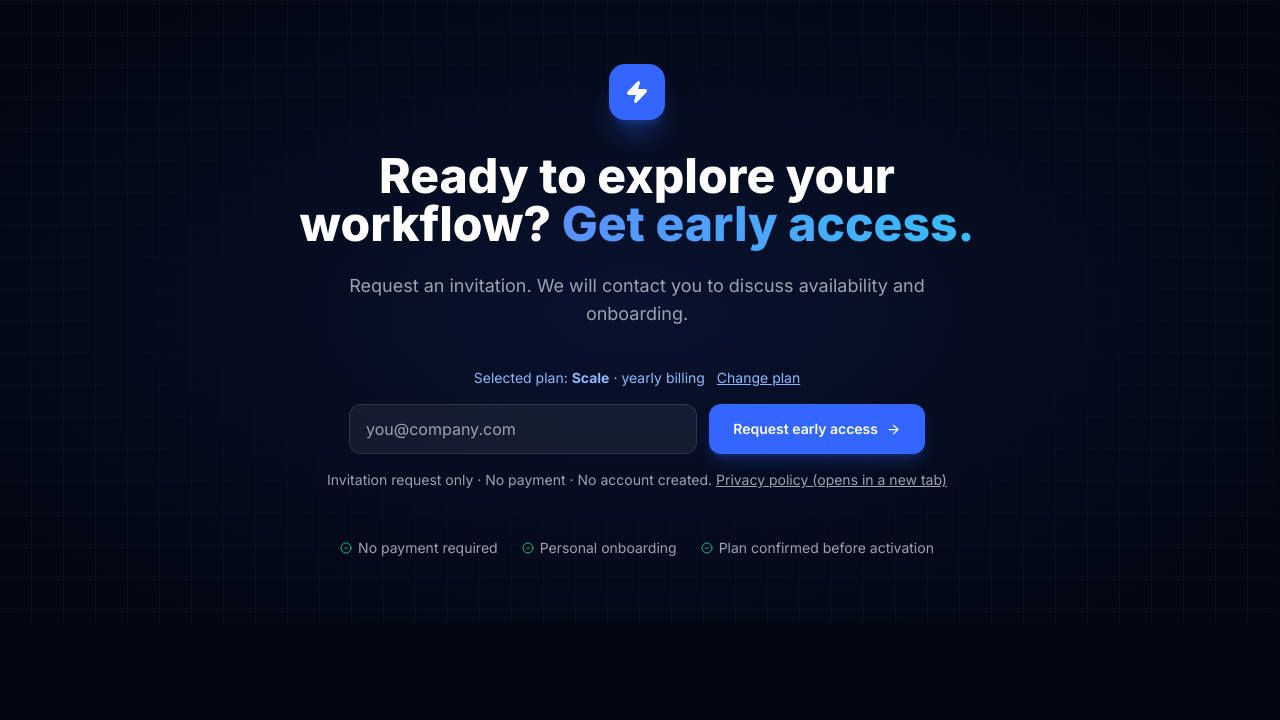
Scenario: includes the selected plan and billing in the early-access request
Expected: the text "scale" is shown, [572, 369, 609, 386]
In the field named "email address": (523, 429) [349, 404, 697, 454], type "team@example.com"
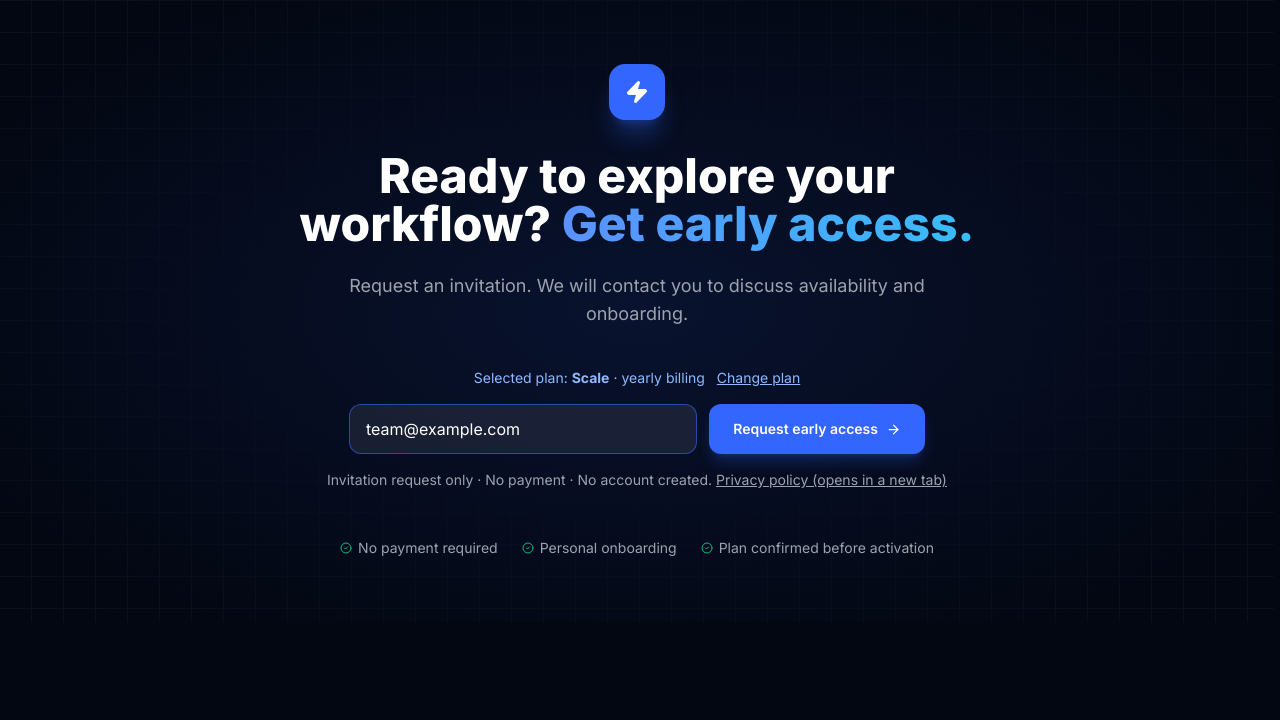
Click the button "Request early access": (817, 429) [709, 404, 925, 454]
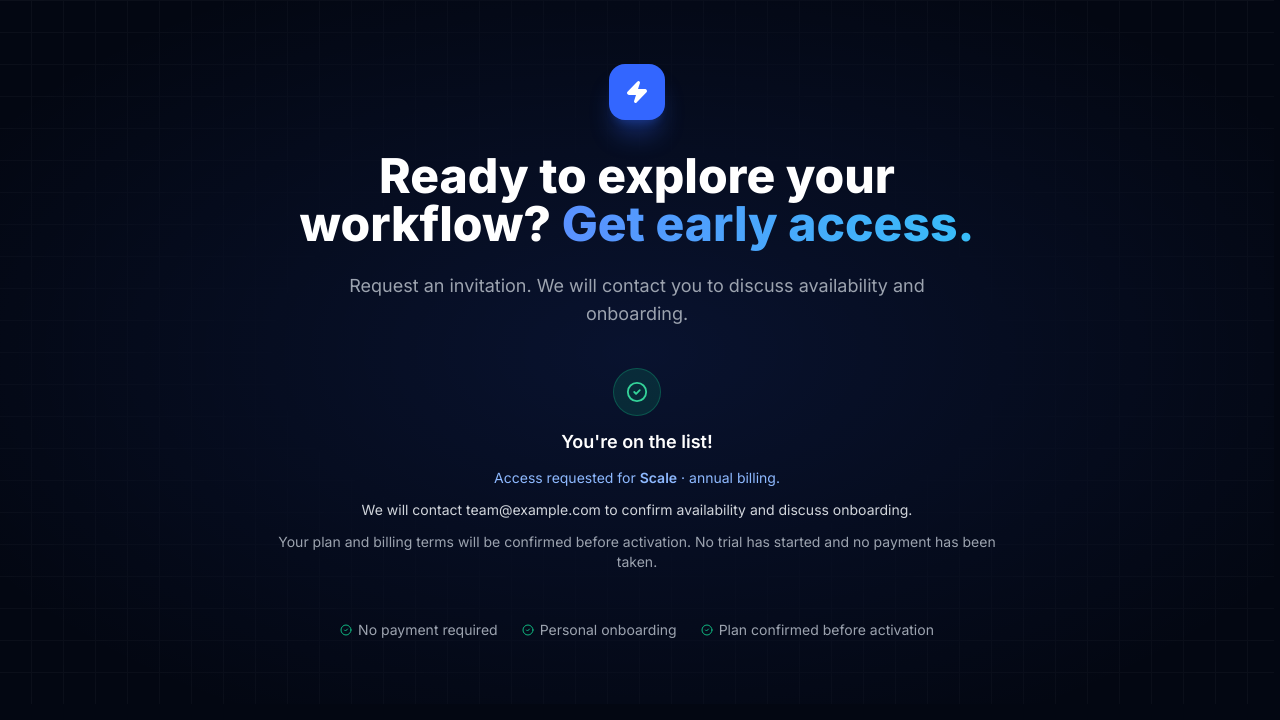
Result: the message is shown at [277, 368, 997, 572]
